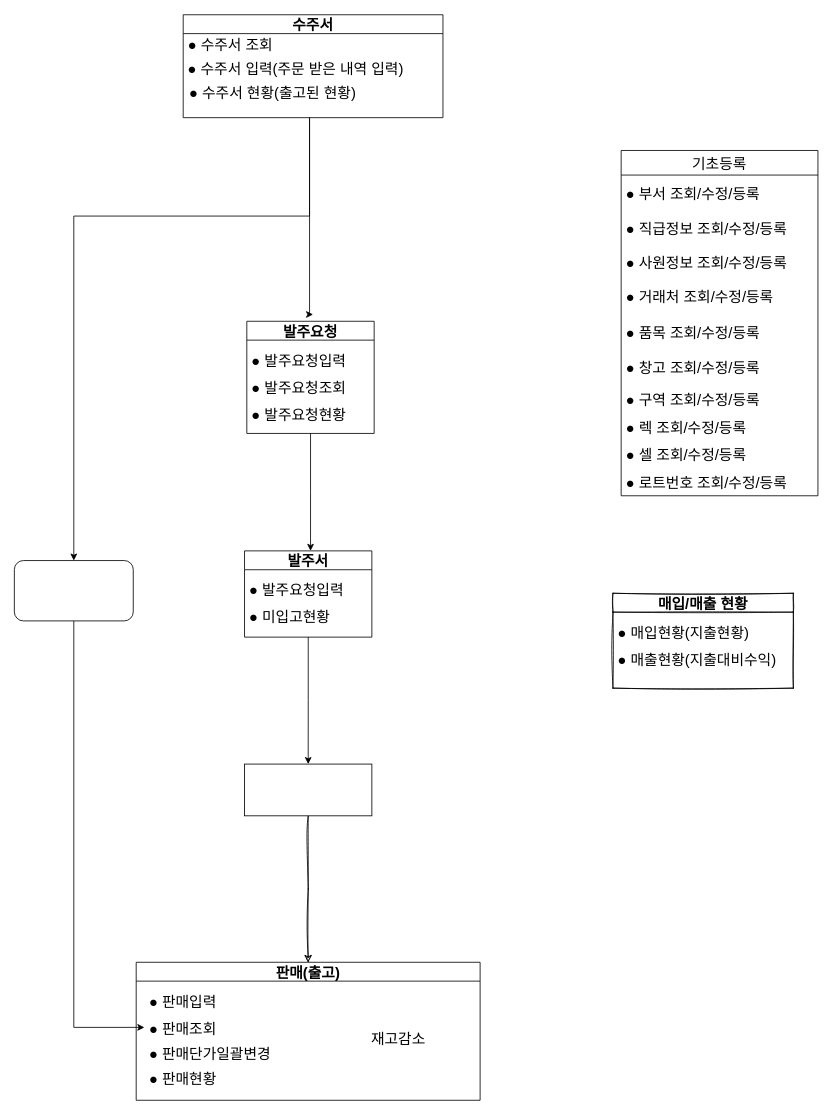
Some shapes in this 832 by 1114 pixel diagram are drawn without their labels. The centre of each missing label's shape, as x and y in pixels:
"구매입력(재고증가)" belongs at (x=308, y=789).
"바로 판매 가능" belongs at (x=73, y=590).
